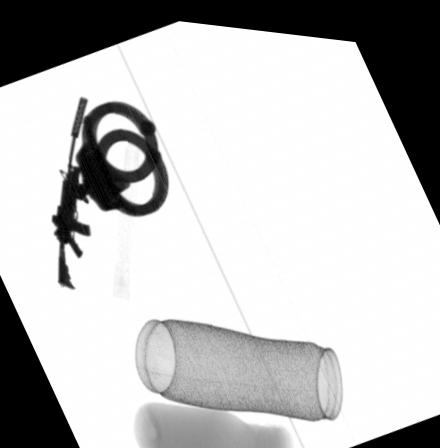Gun: (49, 93, 93, 286)
HandCuffs: (71, 96, 168, 212)
